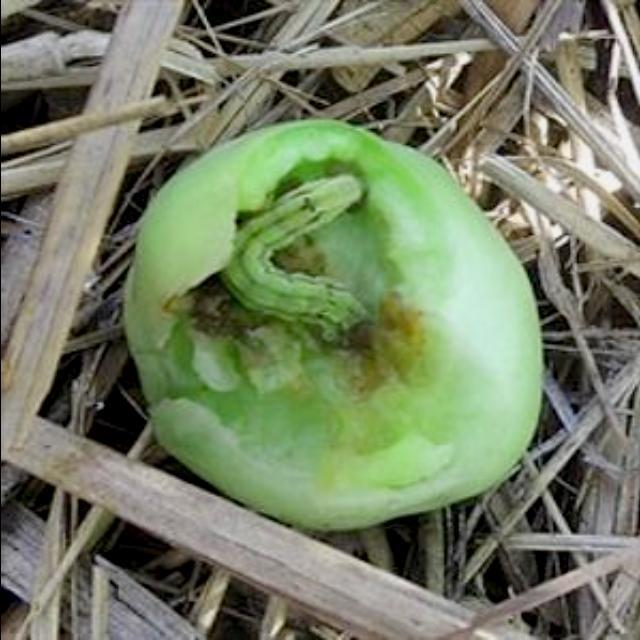Cotton bollworm: (222, 154, 408, 368)
